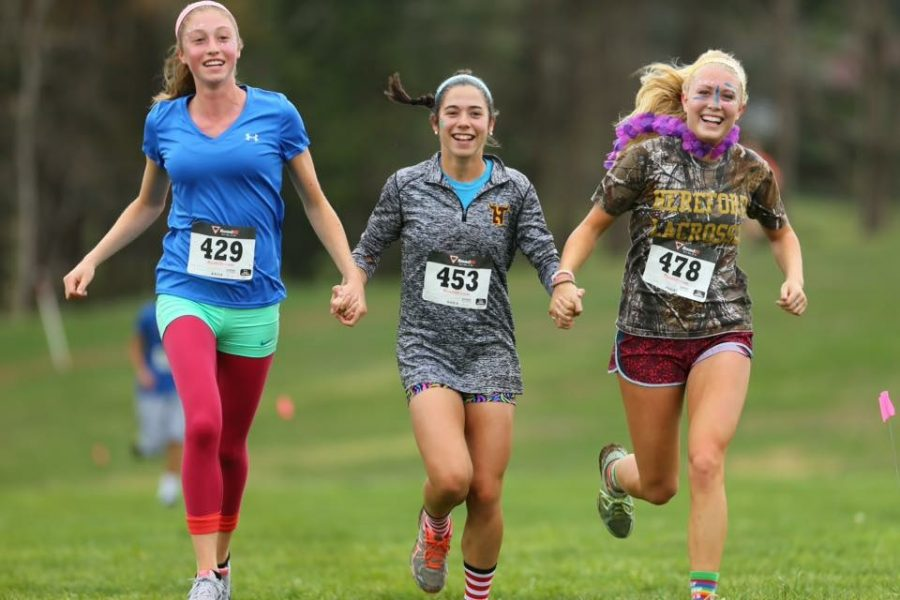Person: (64, 2, 367, 599), (550, 48, 807, 600), (333, 69, 584, 600)
